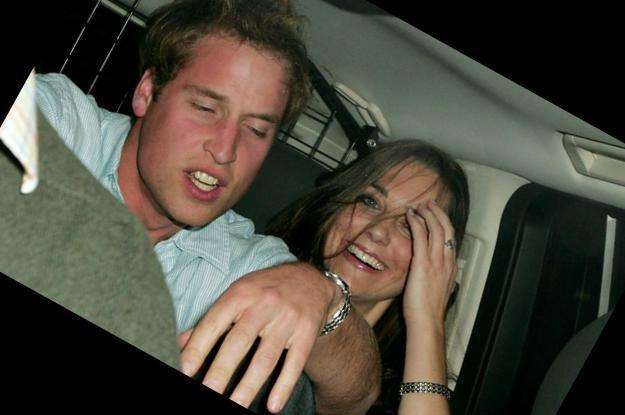Drunk: (158, 45, 275, 216), (336, 159, 432, 287)
